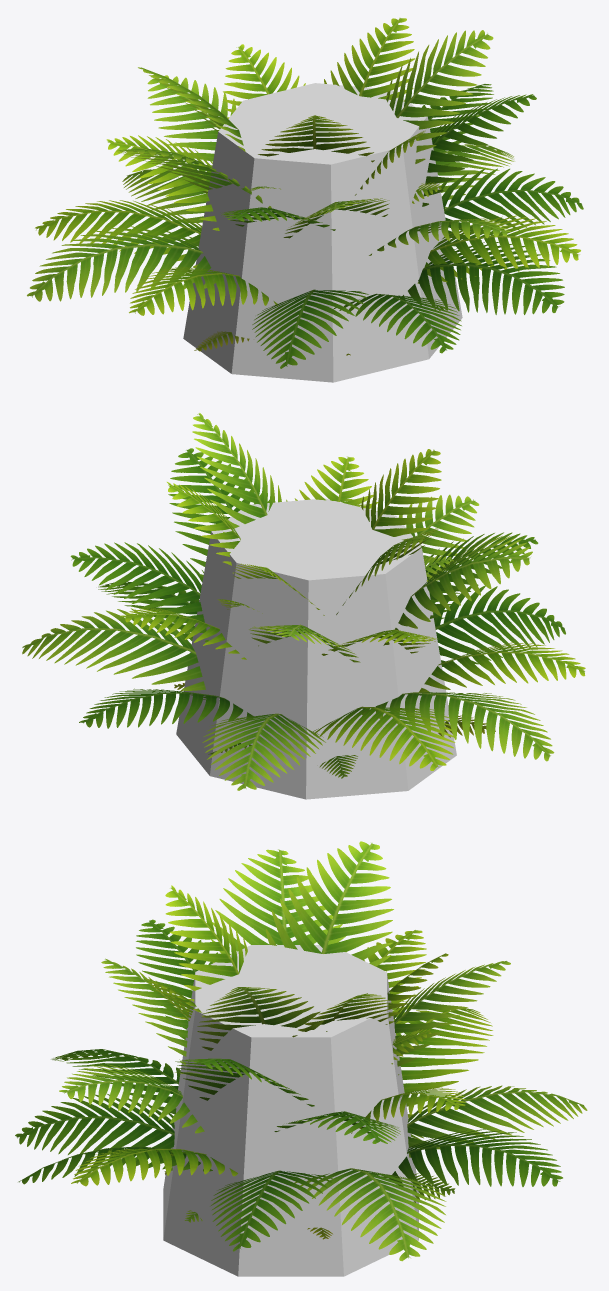
File: IO_Fern_A.glb
3 renders of one model, top to bottom at view 1: azimuth 30°, elevation 25°; view 2: azimuth 150°, elevation 25°; view 3: azimuth 270°, elevation 25°, orthographic. The views are drawn at different scales.
Parts seen in each view (by area): view 1: IO_Fern_A_LOD0, IO_Fern_A_COL; view 2: IO_Fern_A_LOD0, IO_Fern_A_COL; view 3: IO_Fern_A_LOD0, IO_Fern_A_COL.
Boxes of the visible parts, x1,y1,x2,y2 form: IO_Fern_A_LOD0: (27, 18, 583, 368); IO_Fern_A_COL: (183, 83, 462, 382); IO_Fern_A_LOD0: (22, 413, 585, 790); IO_Fern_A_COL: (176, 498, 456, 799); IO_Fern_A_LOD0: (15, 841, 587, 1261); IO_Fern_A_COL: (163, 945, 418, 1276).
Size of what is drawn, in the model's own units: 1.31 by 0.7331 by 1.18.
Materials: 1 (1 with a texture image).
